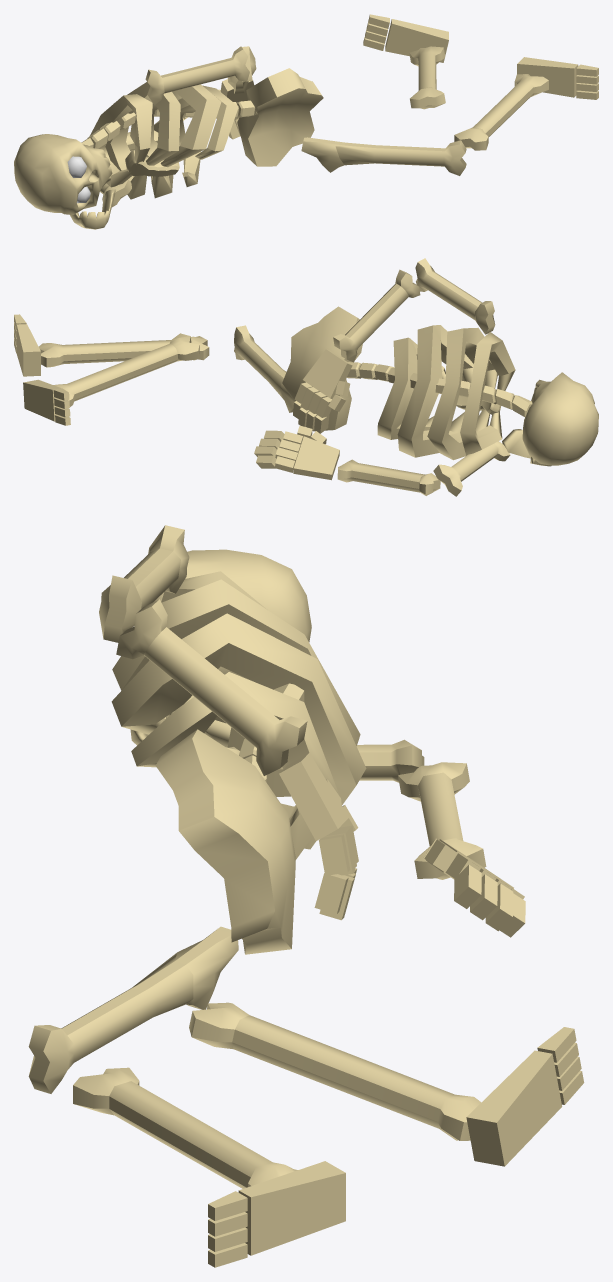
Rendered from skeleton_DEAD_static.fbx.
3 renders of one model, top to bottom at view 1: azimuth 30°, elevation 25°; view 2: azimuth 150°, elevation 25°; view 3: azimuth 270°, elevation 25°, orthographic. The views are drawn at different scales.
Parts seen in each view (by area): view 1: skeleton_standard_upper_armsR_upperarmR; view 2: skeleton_standard_upper_armsR_upperarmR; view 3: skeleton_standard_upper_armsR_upperarmR.
Part boxes in pixels (x1,y1,x2,y2): skeleton_standard_upper_armsR_upperarmR: [14, 14, 598, 229]; skeleton_standard_upper_armsR_upperarmR: [14, 258, 598, 496]; skeleton_standard_upper_armsR_upperarmR: [28, 525, 584, 1267].
Size of the model in its own units: 177 by 48.15 by 74.17.
